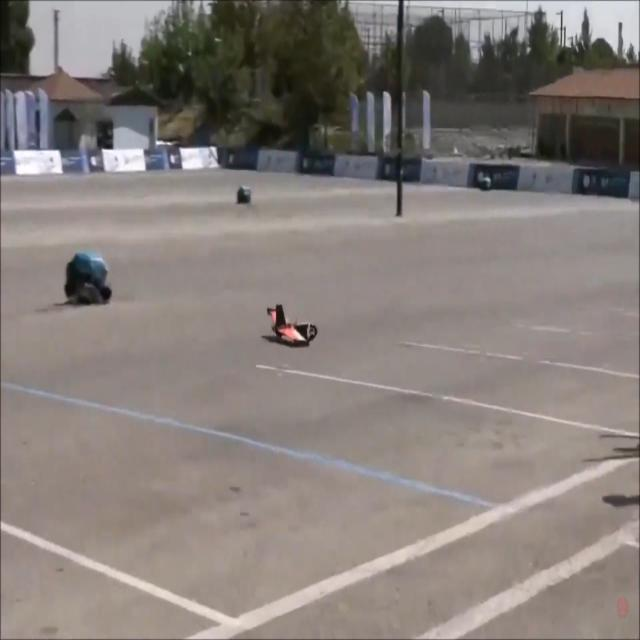UAV: (263, 294, 343, 376)
